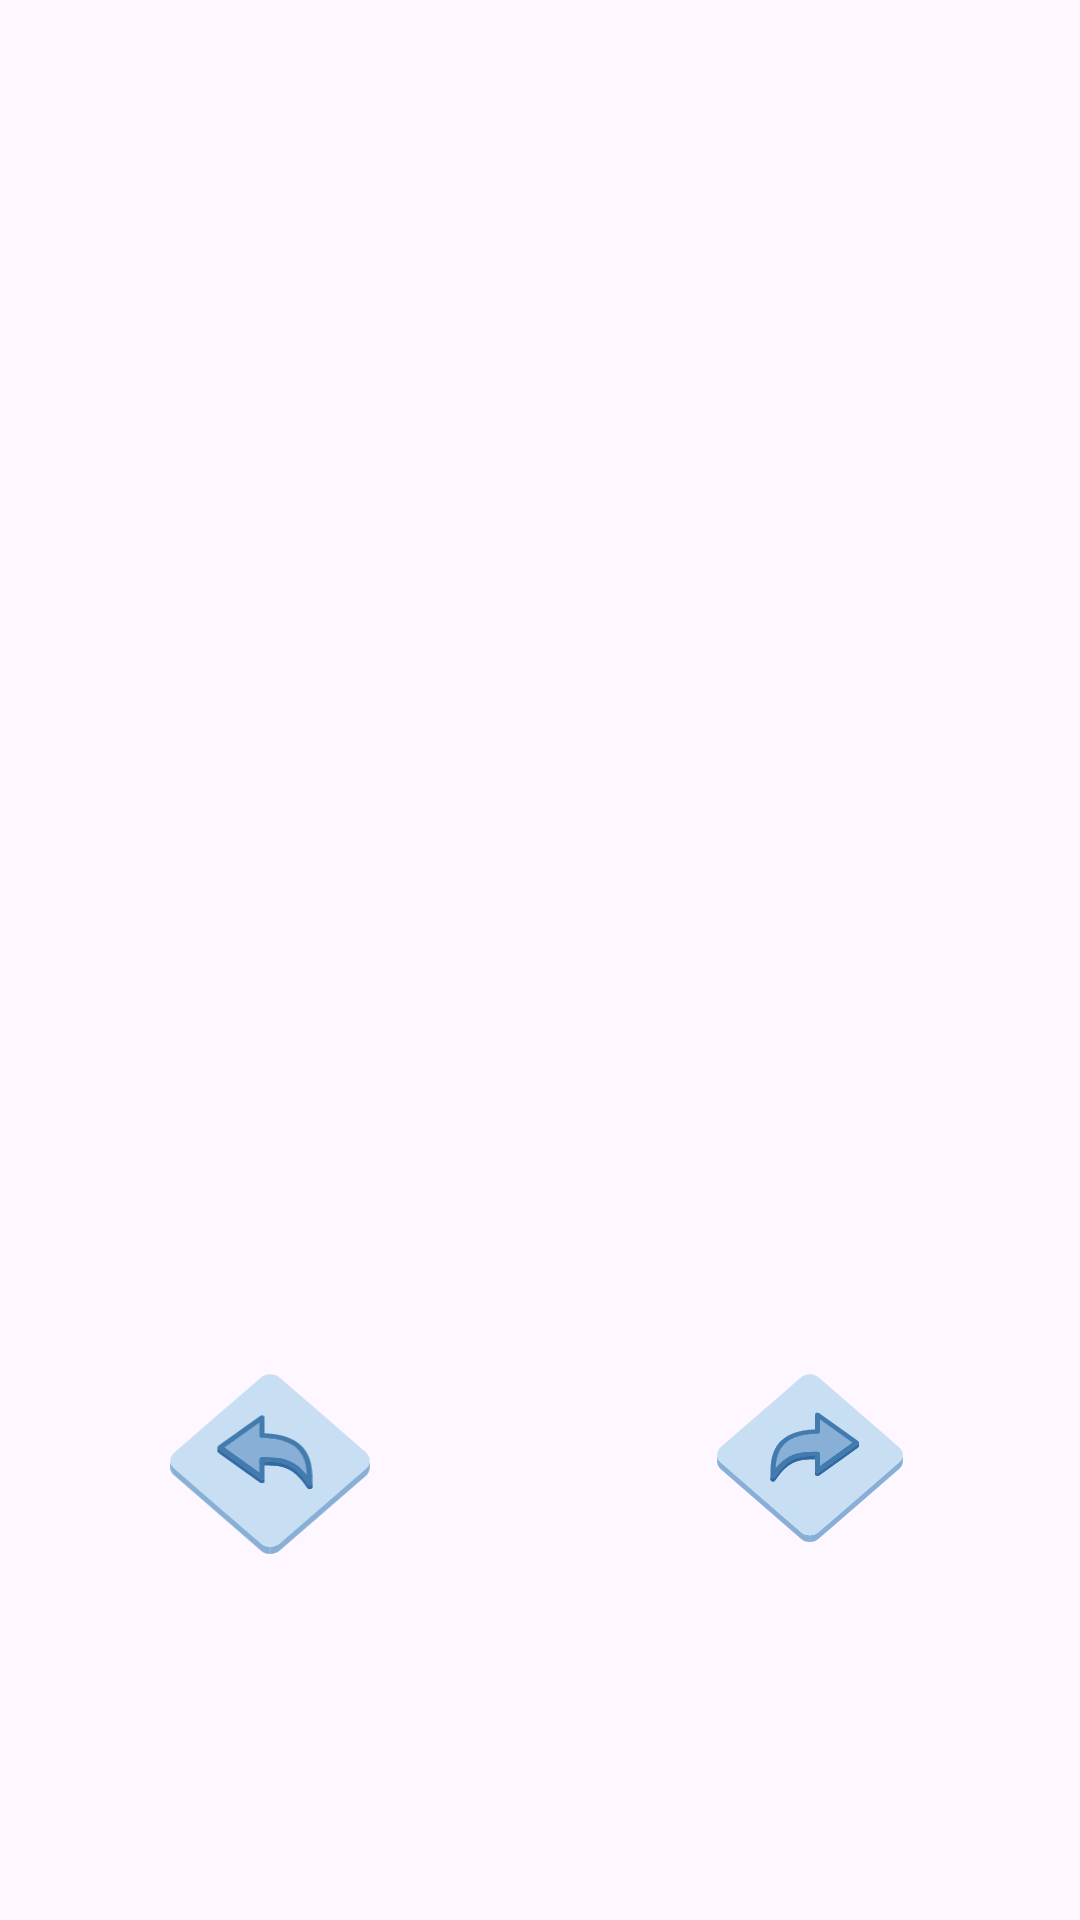

Icon bounding boxes for this 1080px x 1920px phone screenshot, format [x1=x1, y1=y1, x2=x2, y2=y2]:
forward: [x1=717, y1=1374, x2=903, y2=1542]
previous: [x1=170, y1=1374, x2=370, y2=1554]
